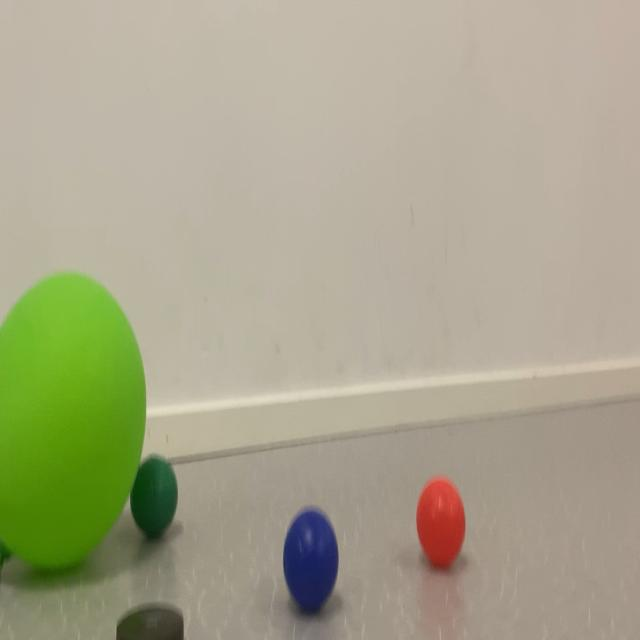7: (385, 432, 494, 640)
green ball: (252, 462, 354, 640)
red ball: (106, 409, 193, 560)
